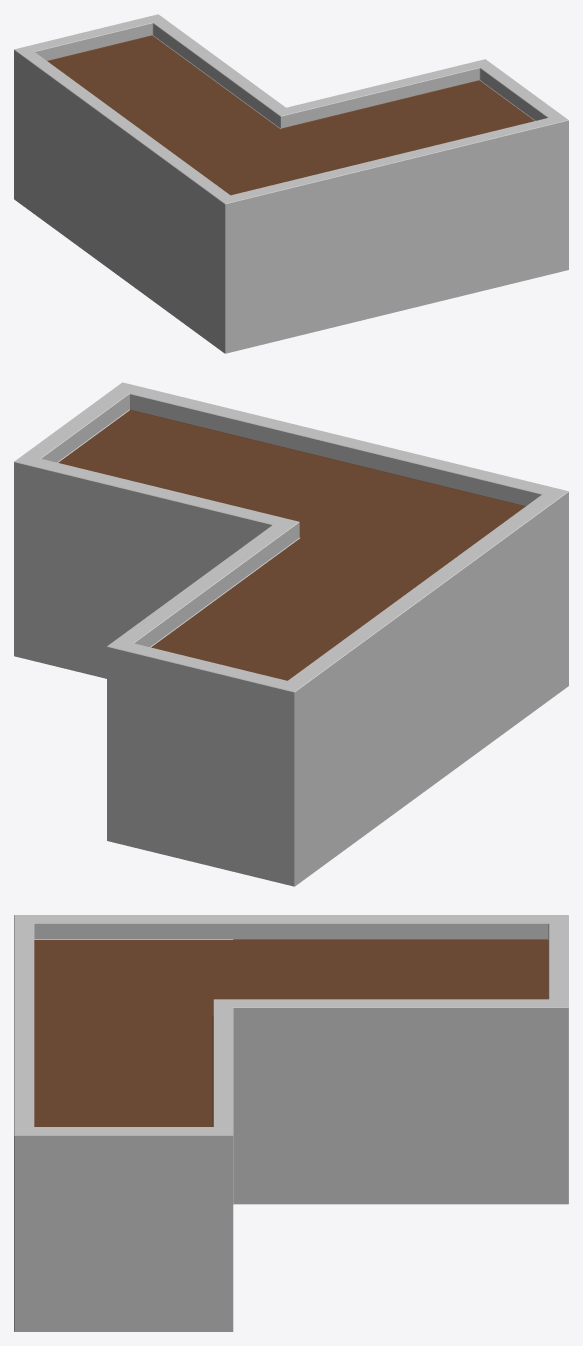
The model's file is Maceta L_UV.fbx.
3 renders of one model, top to bottom at view 1: azimuth 30°, elevation 25°; view 2: azimuth 150°, elevation 25°; view 3: azimuth 270°, elevation 25°, orthographic. The views are drawn at different scales.
Parts seen in each view (by area): view 1: Cube.081; view 2: Cube.081; view 3: Cube.081.
Part boxes in pixels (box(x1,y1,x2,y2)): Cube.081: box(14, 14, 568, 353); Cube.081: box(14, 382, 568, 886); Cube.081: box(14, 915, 568, 1331).
Size of the model in its own units: 268 by 112 by 285.
